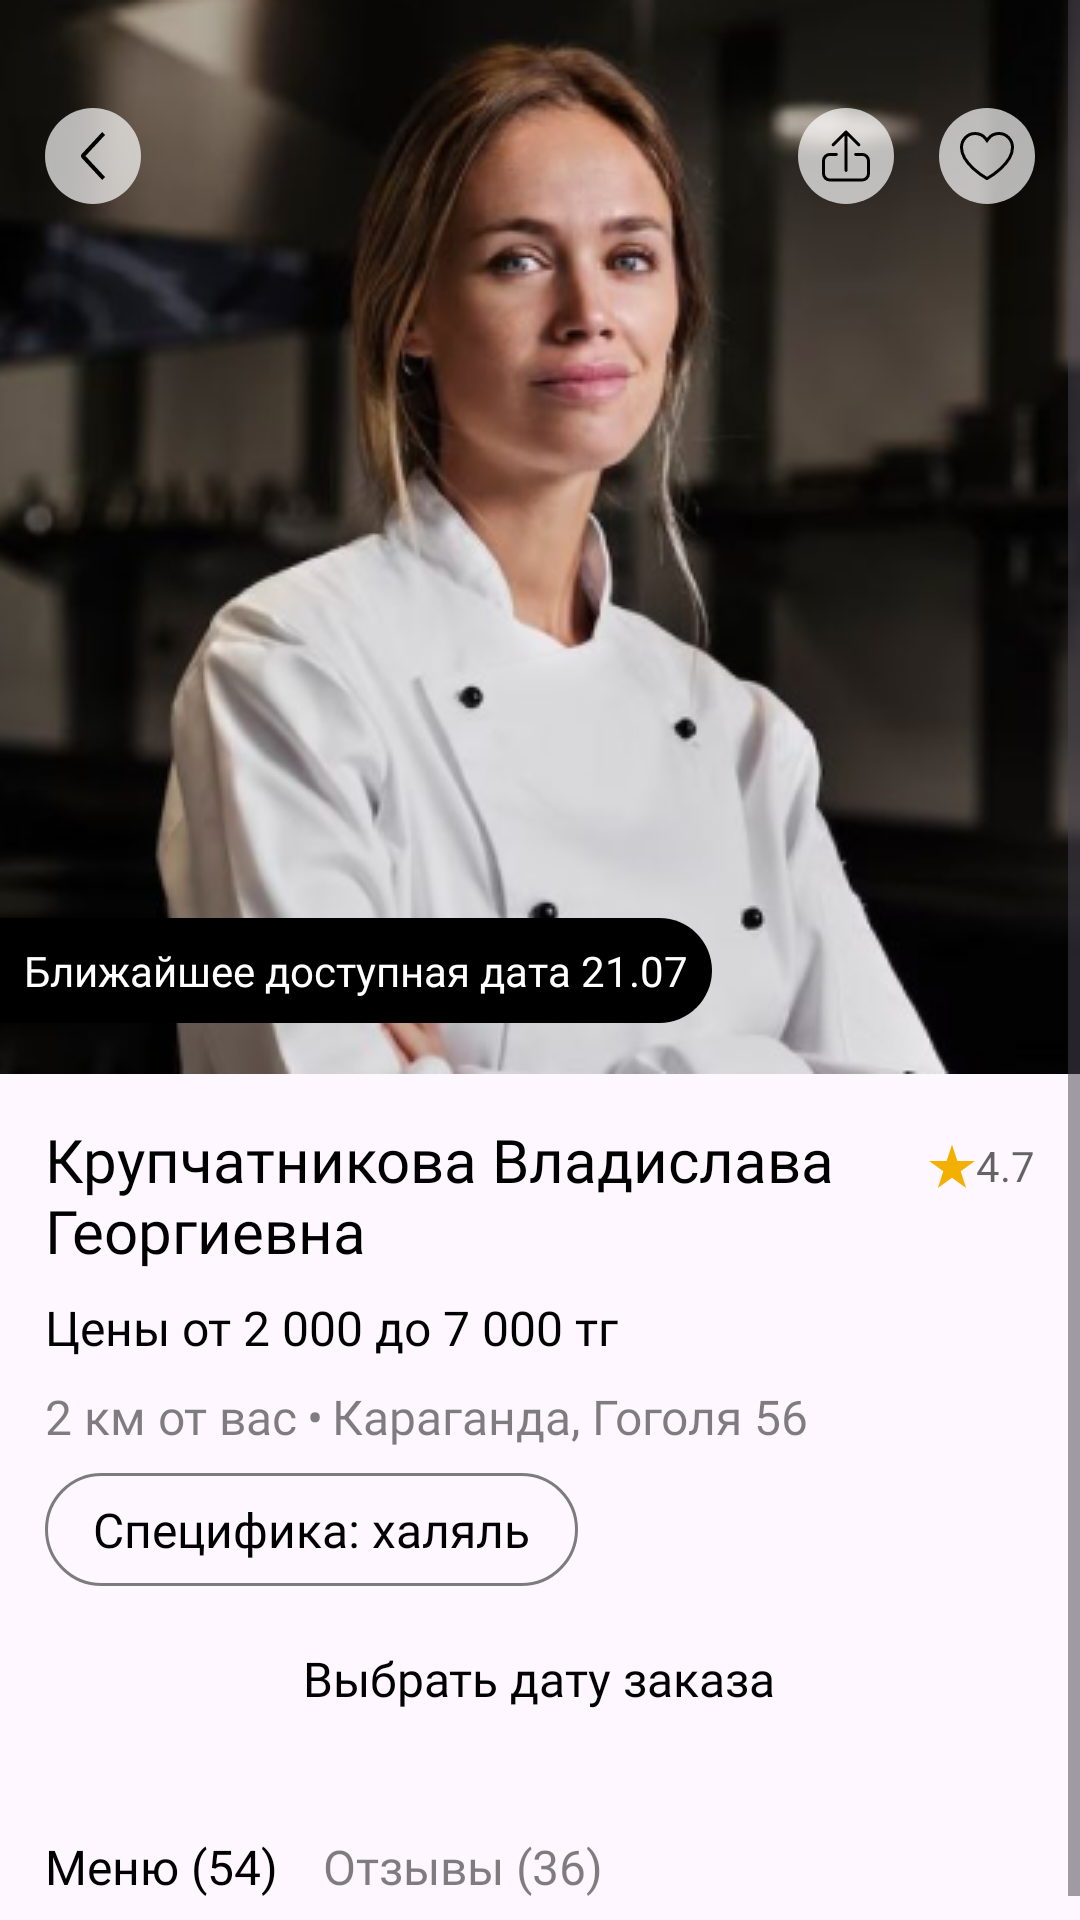

Screen size 1080*1920. Icon name, then its center in pixels as (x,y):
back: (93,156)
heart: (987,156)
share: (846,156)
star: (952,1166)
